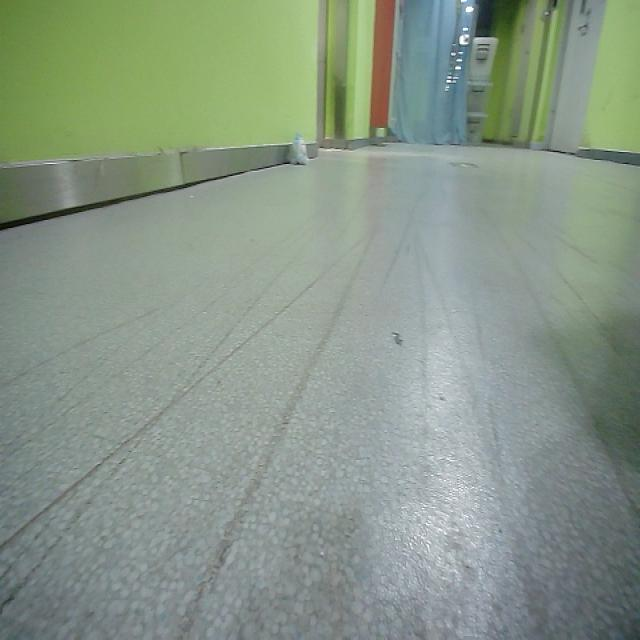xiaoba: (292, 127, 311, 172)
